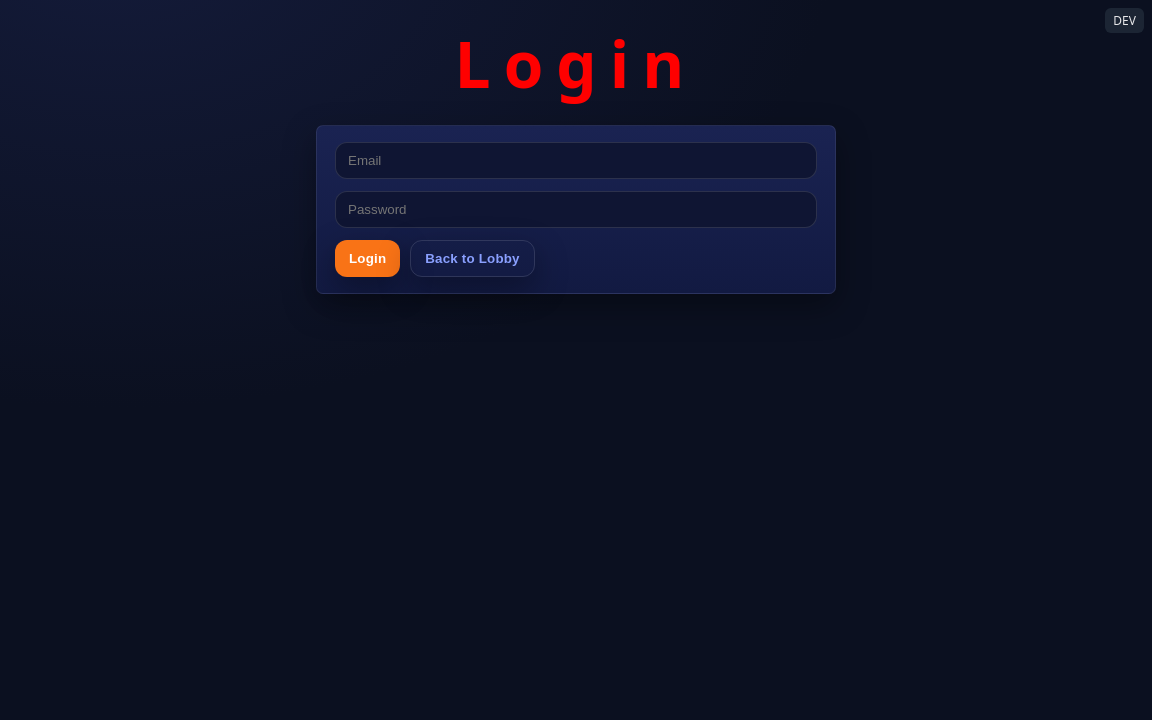
Test: App routing and token persistence › login stores token, navigates to lobby; can view profile and logout
Type "a@example.com" into the field with placeholder "Email".
click(576, 160); type("a@example.com")  # box [335, 142, 817, 179]
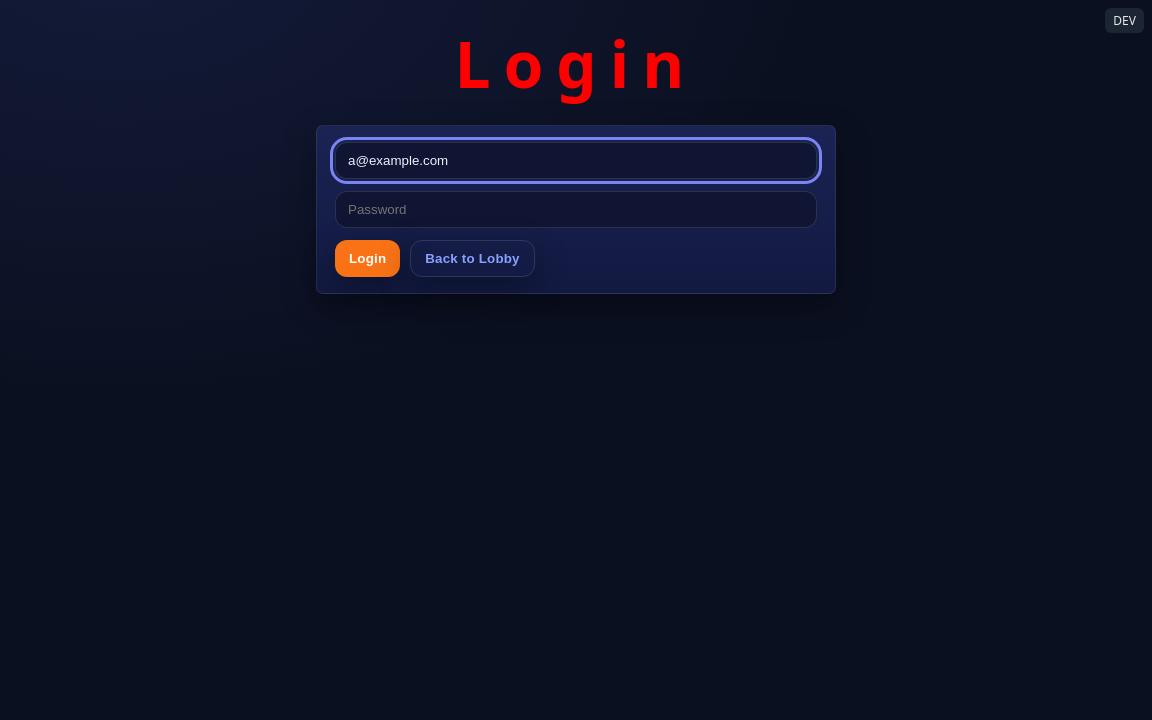
Type "Password1!" into the password field with placeholder "Password".
click(576, 210); type("Password1!")  # box [335, 191, 817, 228]
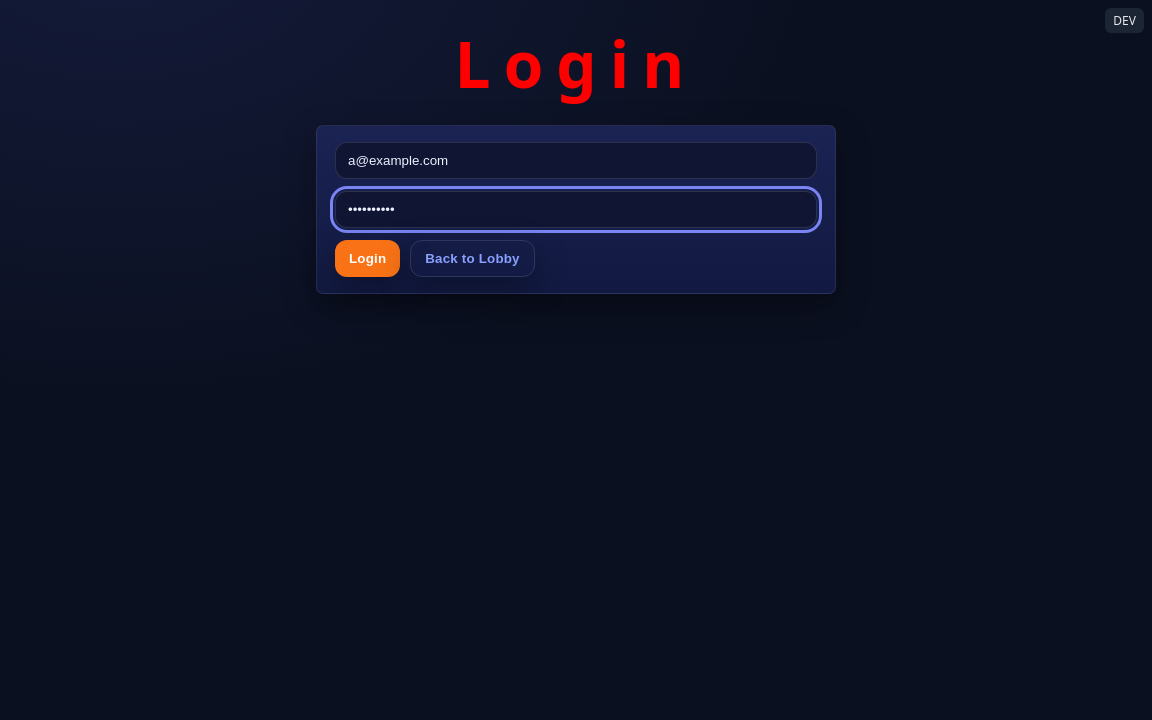
Click the button "Login".
click(368, 258)  # box [335, 240, 400, 277]
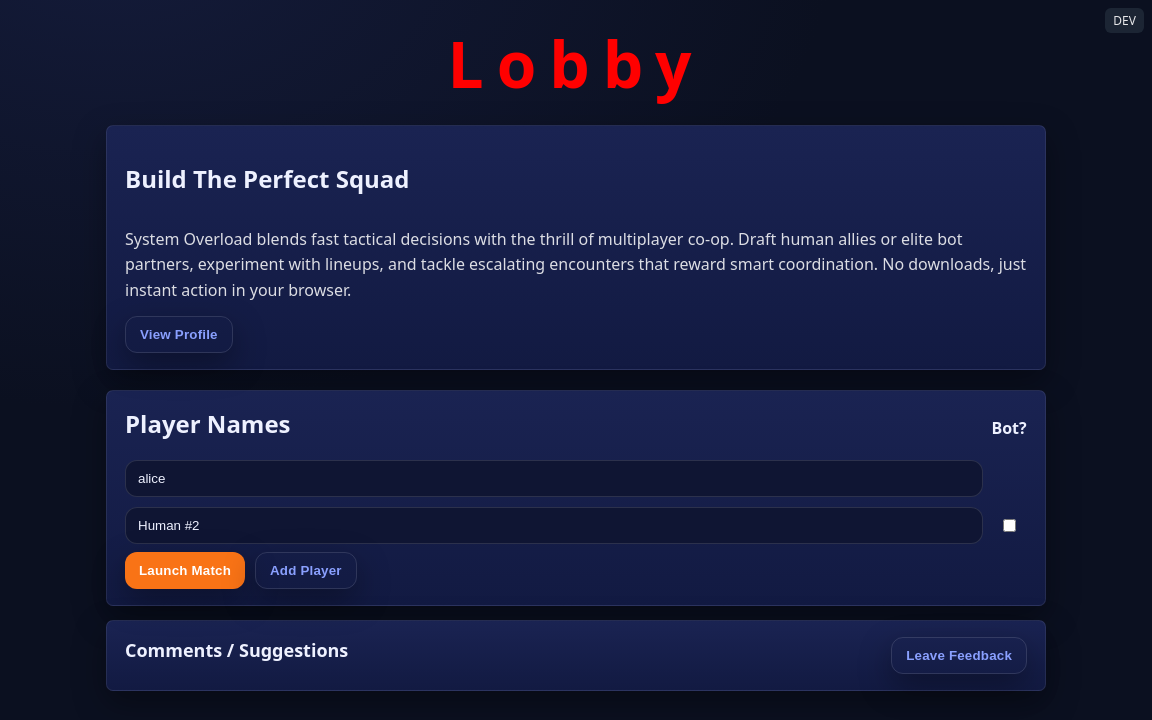
Now the heading "Lobby" is shown, box [448, 20, 704, 107]
Note: Go to profile then logout
Click the button "View Profile".
click(179, 334)  # box [125, 316, 233, 353]
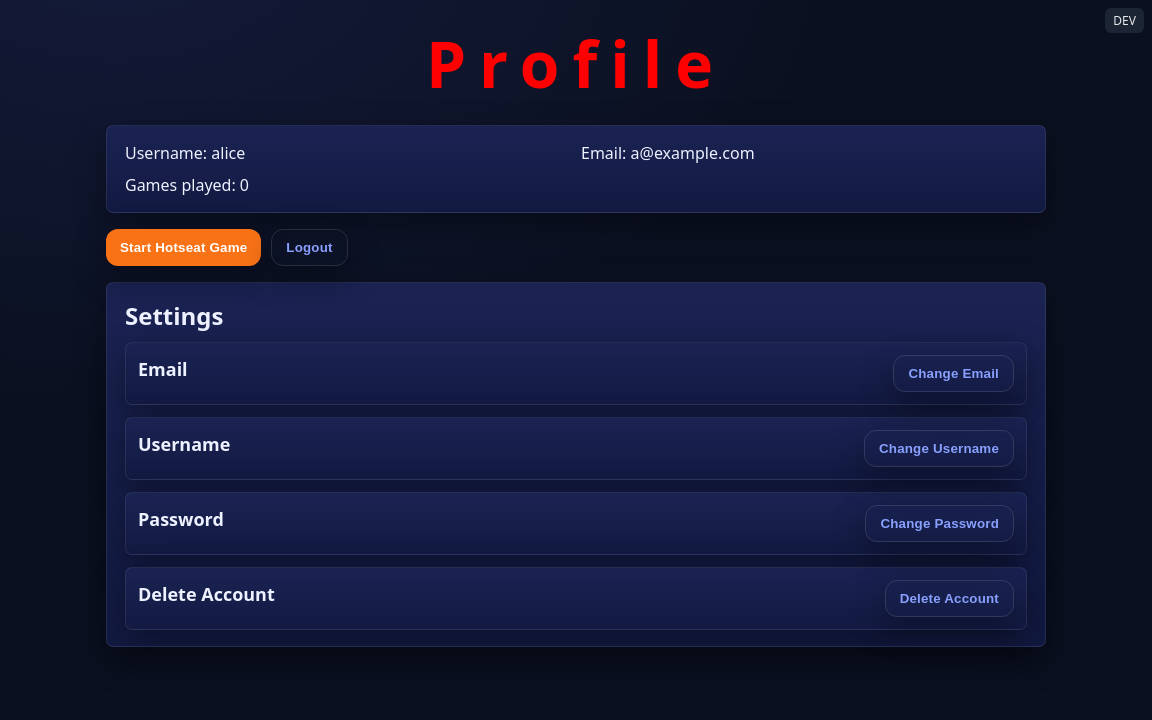
Click the button "Logout".
click(310, 248)  # box [271, 229, 348, 266]
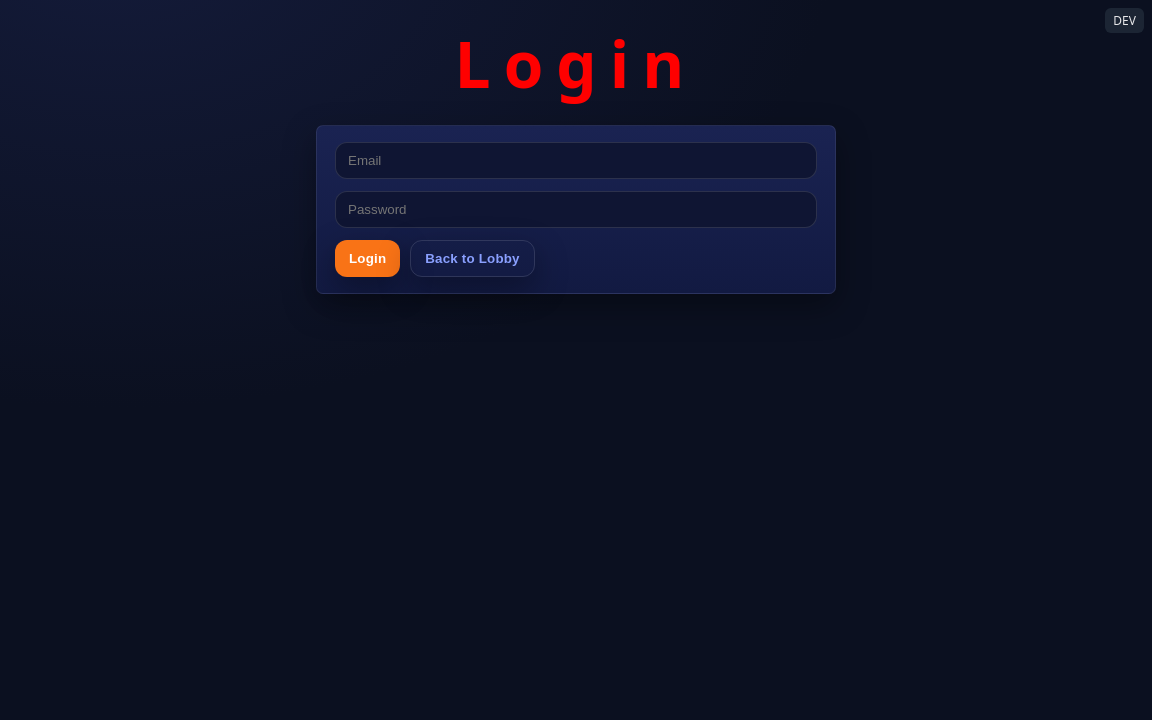
Now the heading "Login" is shown, box [455, 20, 698, 107]
